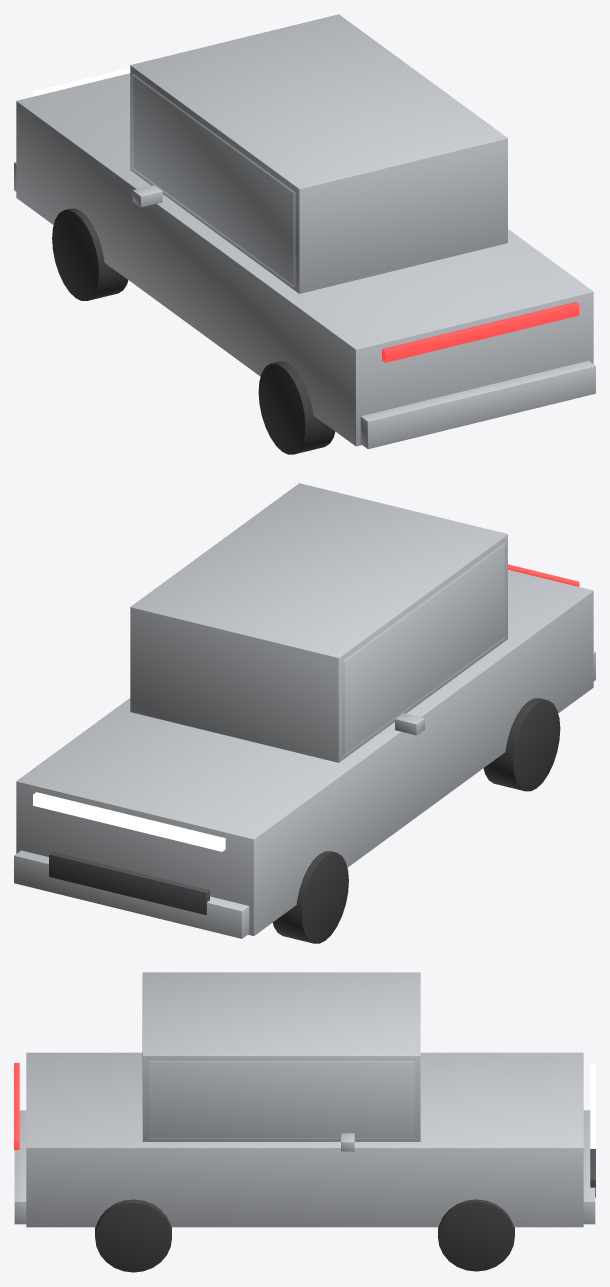
Rendered from vehicle.glb.
3 renders of one model, top to bottom at view 1: azimuth 30°, elevation 25°; view 2: azimuth 150°, elevation 25°; view 3: azimuth 270°, elevation 25°, orthographic. The views are drawn at different scales.
Parts seen in each view (by area): view 1: BODY_Roof, BODY_Main, GLASS_Greenhouse, BODY_Bumpers_Rear, WHEEL_RR_Tire, WHEEL_FR_Tire, LIGHT_Taillights, LIGHT_Headlights; view 2: BODY_Roof, BODY_Main, GLASS_Greenhouse, BODY_Bumpers_Front, WHEEL_RR_Tire, WHEEL_FR_Tire, BODY_Grille, LIGHT_Headlights; view 3: BODY_Main, BODY_Roof, GLASS_Greenhouse, WHEEL_RL_Tire, WHEEL_FL_Tire, BODY_Bumpers_Rear, BODY_Bumpers_Front, LIGHT_Taillights, LIGHT_Headlights.
Boxes of the visible parts, x1=… form: BODY_Roof: x1=130, y1=14, x2=507, y2=293; BODY_Main: x1=16, y1=73, x2=593, y2=446; GLASS_Greenhouse: x1=131, y1=74, x2=295, y2=286; BODY_Bumpers_Rear: x1=360, y1=360, x2=595, y2=448; WHEEL_RR_Tire: x1=258, y1=361, x2=335, y2=454; WHEEL_FR_Tire: x1=52, y1=208, x2=128, y2=300; LIGHT_Taillights: x1=382, y1=302, x2=579, y2=362; LIGHT_Headlights: x1=33, y1=68, x2=130, y2=96; BODY_Roof: x1=130, y1=483, x2=507, y2=762; BODY_Main: x1=16, y1=569, x2=593, y2=935; GLASS_Greenhouse: x1=343, y1=543, x2=506, y2=755; BODY_Bumpers_Front: x1=14, y1=850, x2=249, y2=938; WHEEL_RR_Tire: x1=483, y1=698, x2=560, y2=791; WHEEL_FR_Tire: x1=272, y1=851, x2=348, y2=943; BODY_Grille: x1=49, y1=852, x2=209, y2=915; LIGHT_Headlights: x1=33, y1=792, x2=225, y2=851; BODY_Main: x1=26, y1=1052, x2=583, y2=1227; BODY_Roof: x1=142, y1=972, x2=420, y2=1141; GLASS_Greenhouse: x1=149, y1=1061, x2=414, y2=1139; WHEEL_RL_Tire: x1=95, y1=1199, x2=171, y2=1272; WHEEL_FL_Tire: x1=438, y1=1199, x2=514, y2=1271; BODY_Bumpers_Rear: x1=14, y1=1110, x2=26, y2=1224; BODY_Bumpers_Front: x1=583, y1=1110, x2=595, y2=1224; LIGHT_Taillights: x1=14, y1=1063, x2=19, y2=1149; LIGHT_Headlights: x1=590, y1=1064, x2=595, y2=1148.
Bounding box in the file's own units: 2.34 × 1.99 × 5.06.
